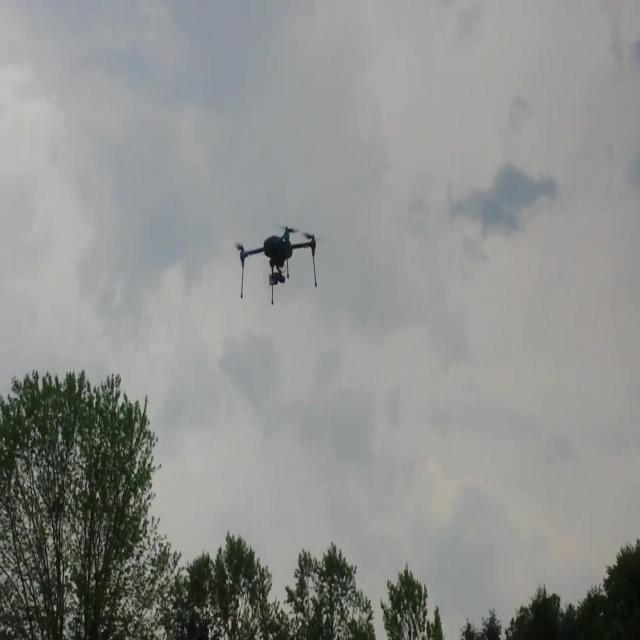UAV: (236, 223, 326, 307)
